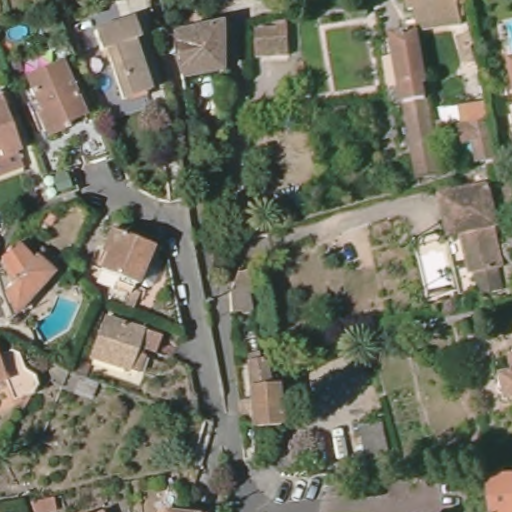pool: (38, 295, 79, 344), (92, 71, 113, 95), (5, 25, 31, 40)
